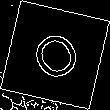O_SE: (23, 22, 87, 88)
